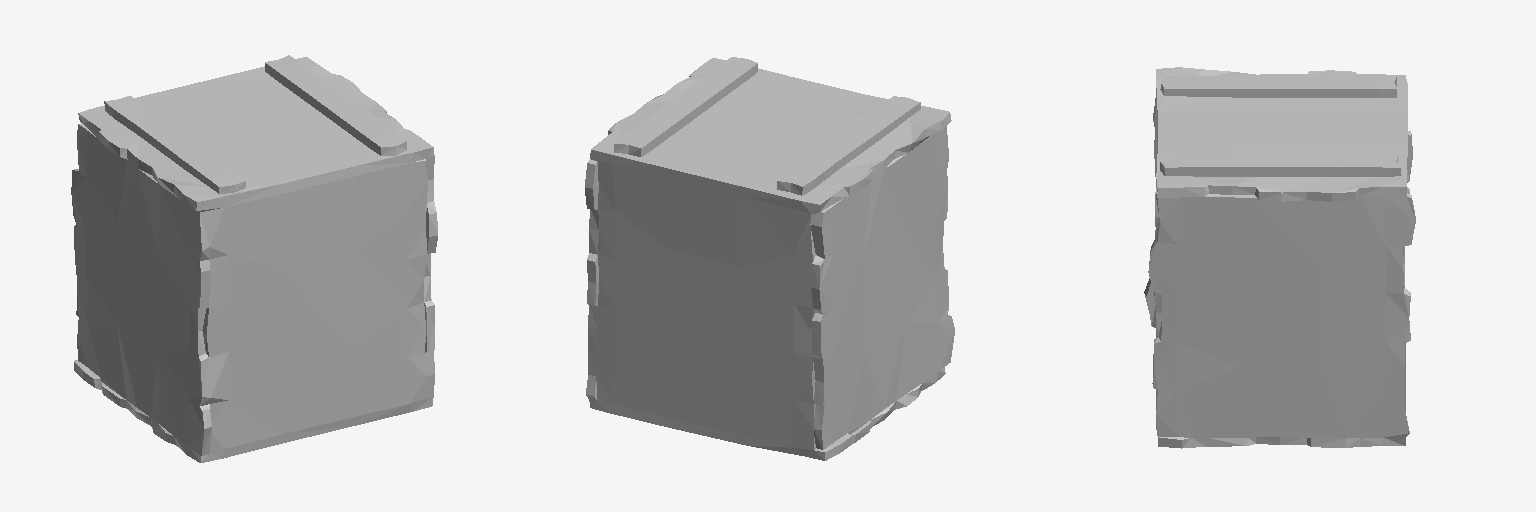
File: StoneStorage.obj
The picture shows the model from 3 angles: view 1: azimuth 30°, elevation 25°; view 2: azimuth 150°, elevation 25°; view 3: azimuth 270°, elevation 25°; orthographic projection.
Visible parts, largest first — view 1: box1; view 2: box1; view 3: box1.
Part boxes in pixels (bbox=[...]): box1: bbox=[71, 55, 437, 462]; box1: bbox=[585, 57, 954, 460]; box1: bbox=[1144, 67, 1415, 448].
Size of the model in its own units: 0.2627 by 0.2722 by 0.249.